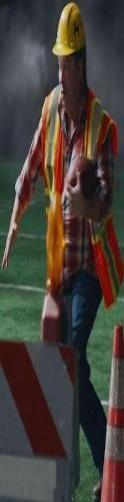hard-hat: (50, 0, 86, 55)
vest: (0, 81, 122, 295)
